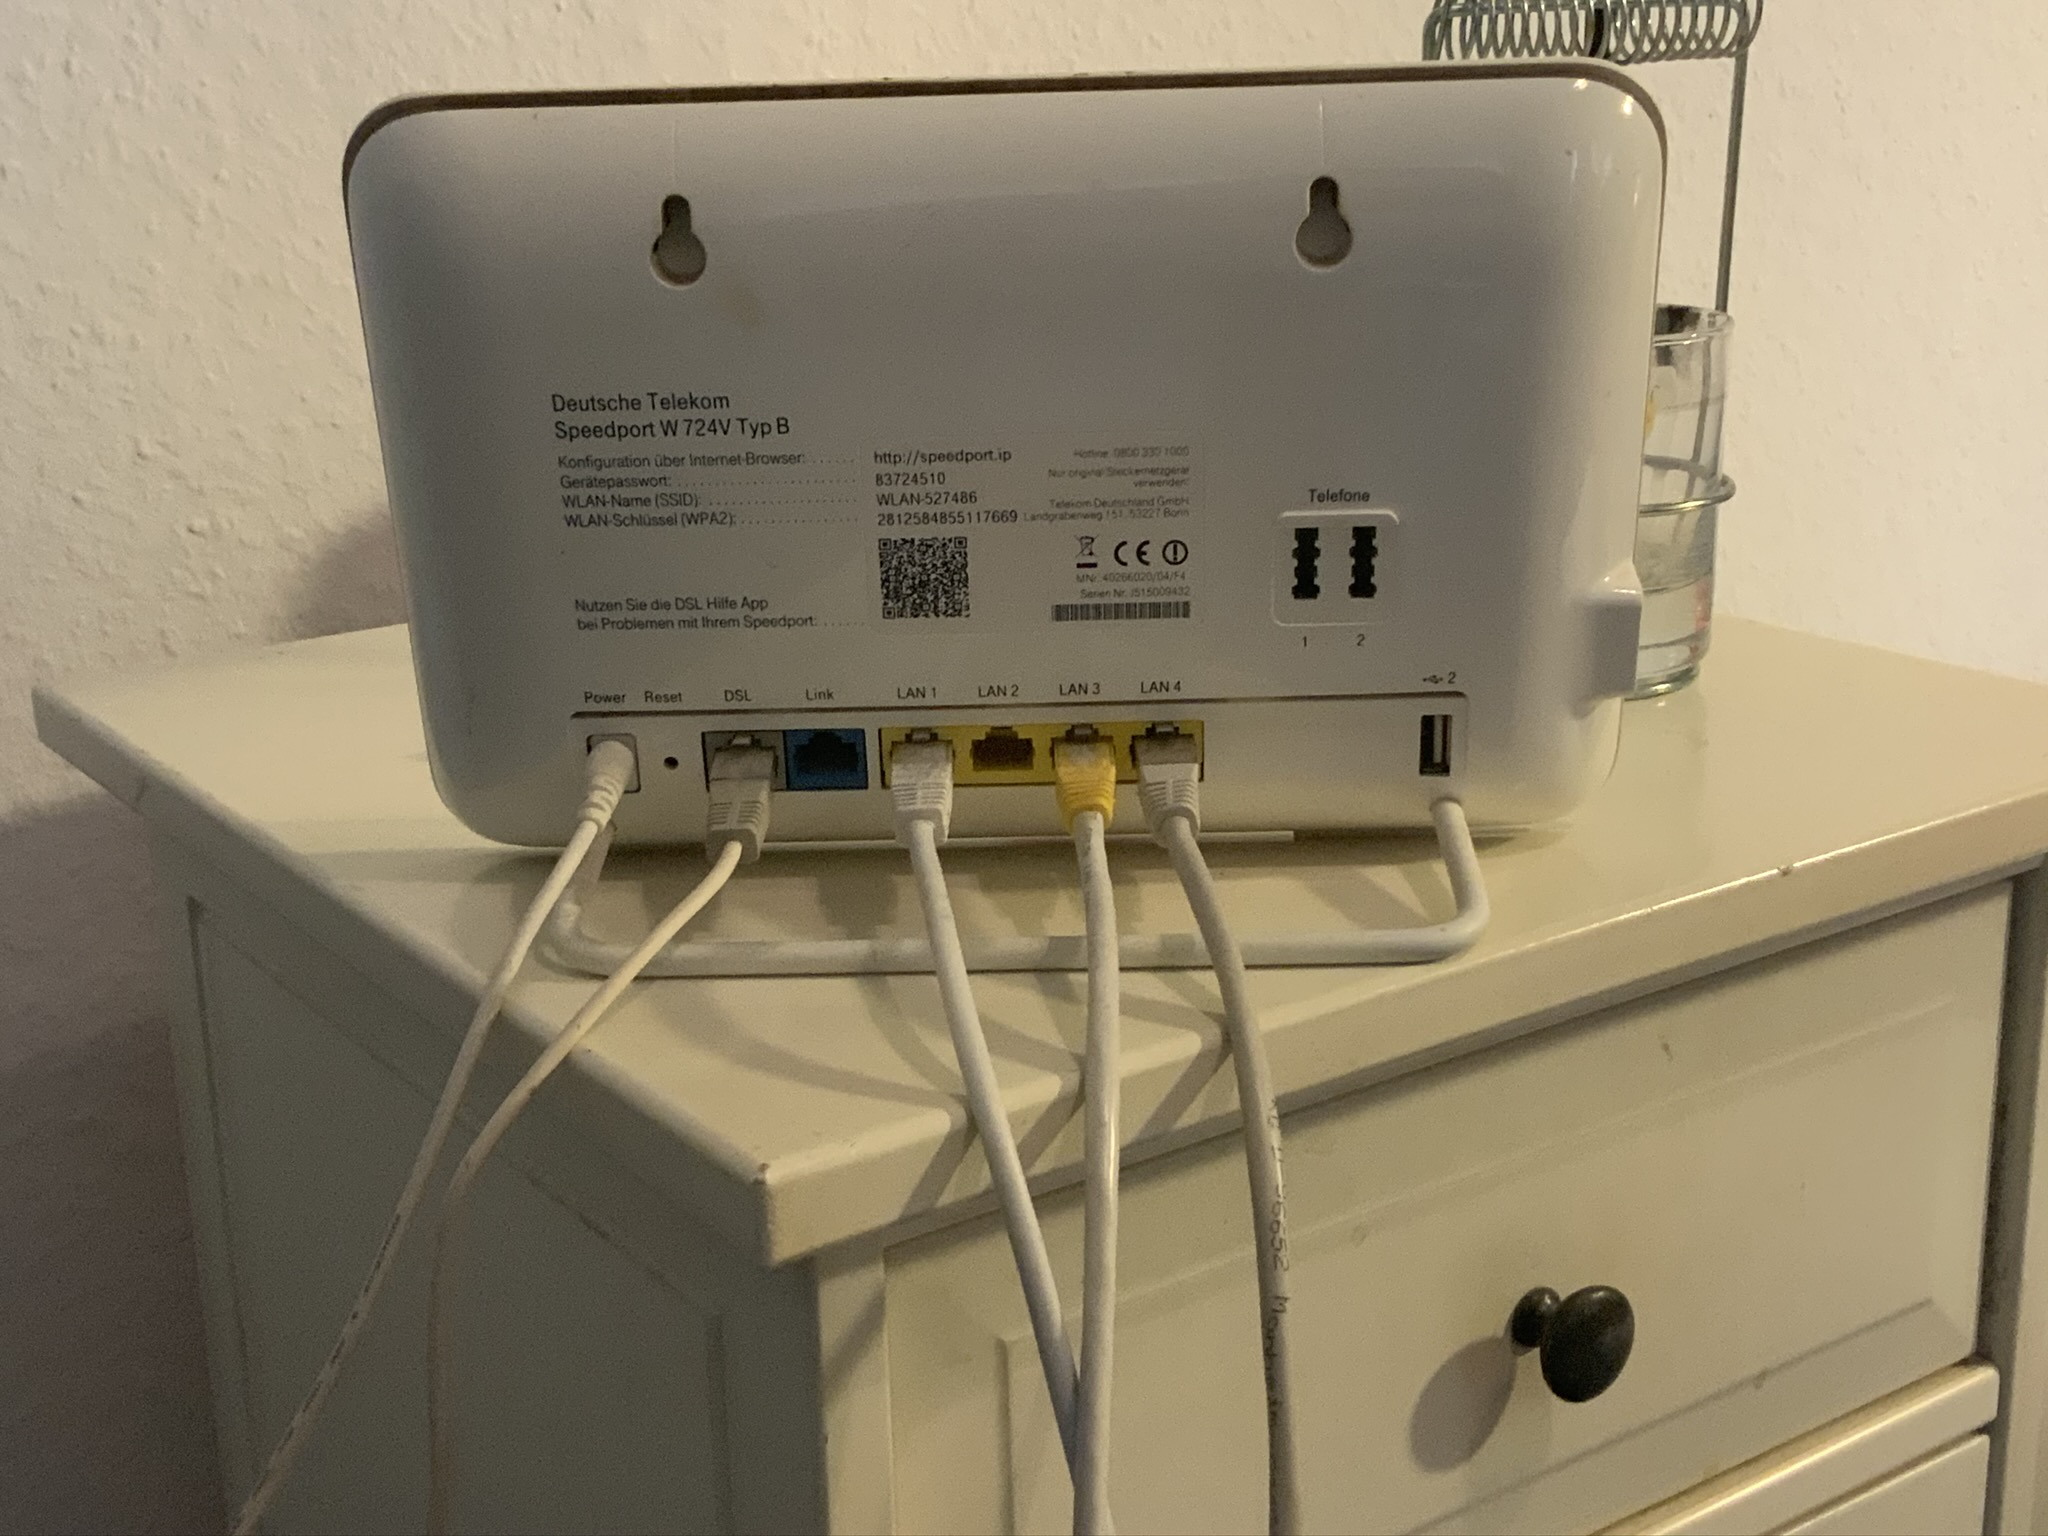router: (335, 52, 1677, 868)
